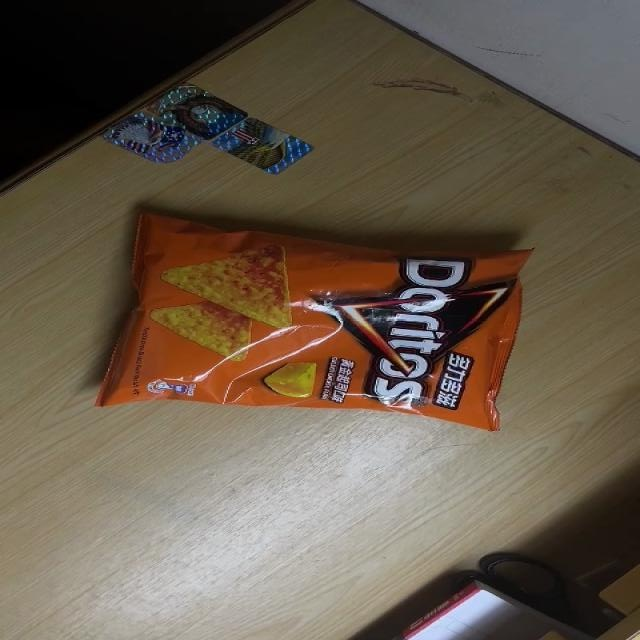Doritos: (94, 215, 542, 431)
